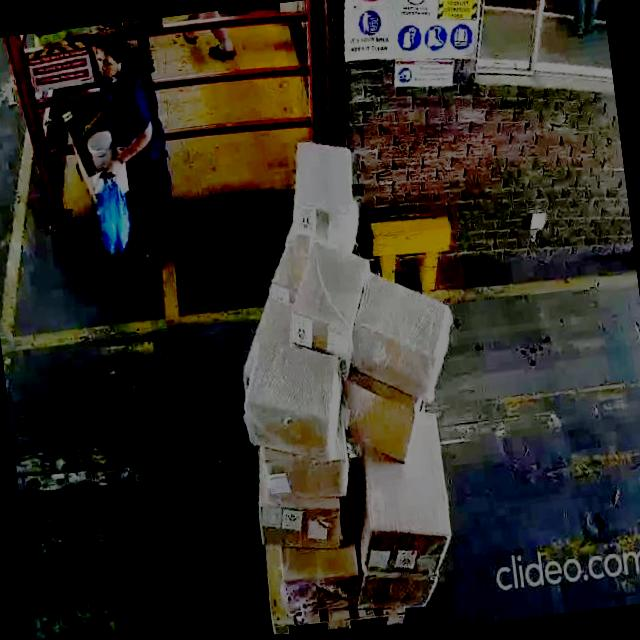Box: (234, 332, 348, 472), (348, 276, 456, 396), (358, 448, 454, 578), (284, 230, 358, 346), (284, 131, 361, 237), (340, 366, 420, 468), (280, 540, 366, 620), (257, 490, 348, 562), (259, 444, 353, 505), (358, 564, 441, 616)
